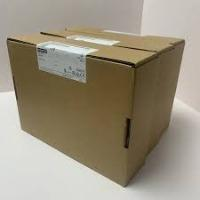undamaged: (7, 23, 188, 190)
